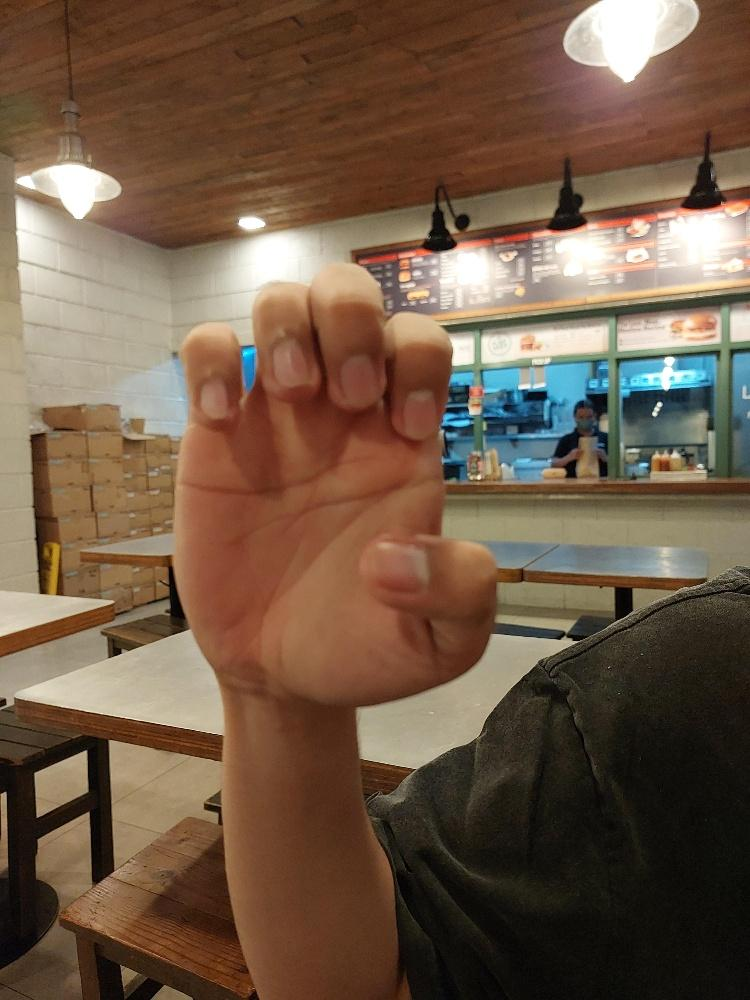e: (170, 256, 500, 715)
